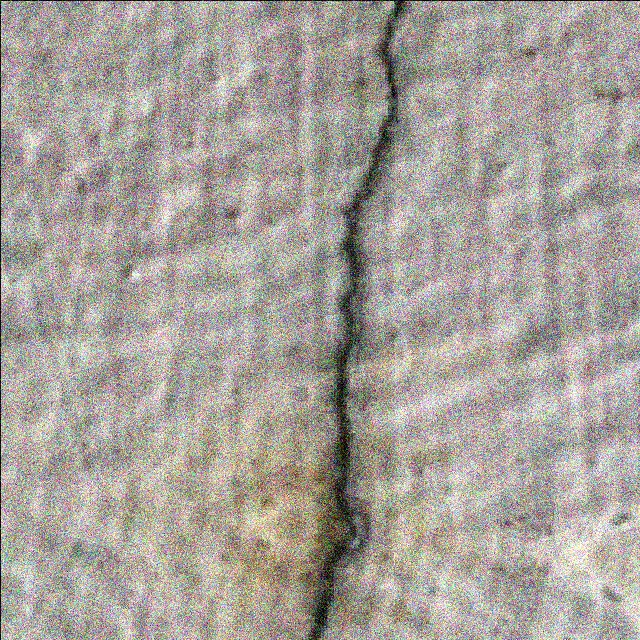SurfaceCrack: (262, 0, 446, 640)
